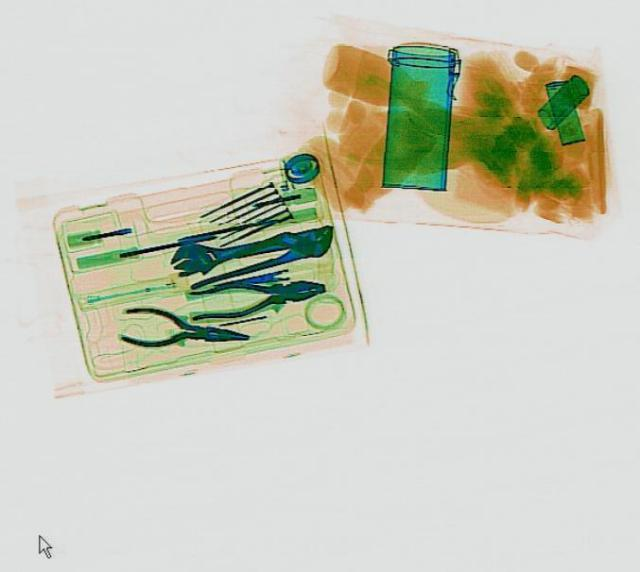Pliers: (184, 270, 326, 322), (118, 303, 250, 356)
Wrench: (163, 215, 327, 278)
